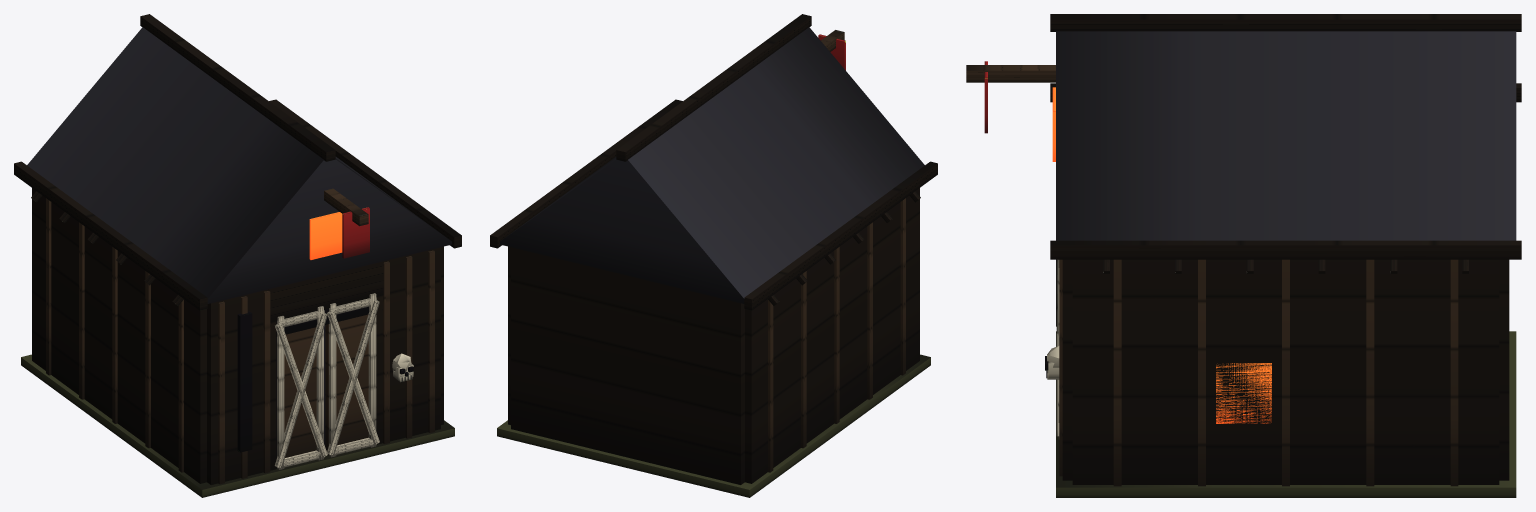
Rendered from creepy_barn.fbx.
3 renders of one model, left to right at view 1: azimuth 30°, elevation 25°; view 2: azimuth 150°, elevation 25°; view 3: azimuth 270°, elevation 25°, orthographic. The views are drawn at different scales.
Visible parts, largest first — view 1: creepy_barn; view 2: creepy_barn; view 3: creepy_barn.
Part boxes in pixels (<box>): creepy_barn: <box>14,14,461,497</box>; creepy_barn: <box>490,14,937,497</box>; creepy_barn: <box>966,14,1521,497</box>.
Bounding box in the file's own units: 352 × 396 × 495.
Materials: 1 (1 with a texture image).
